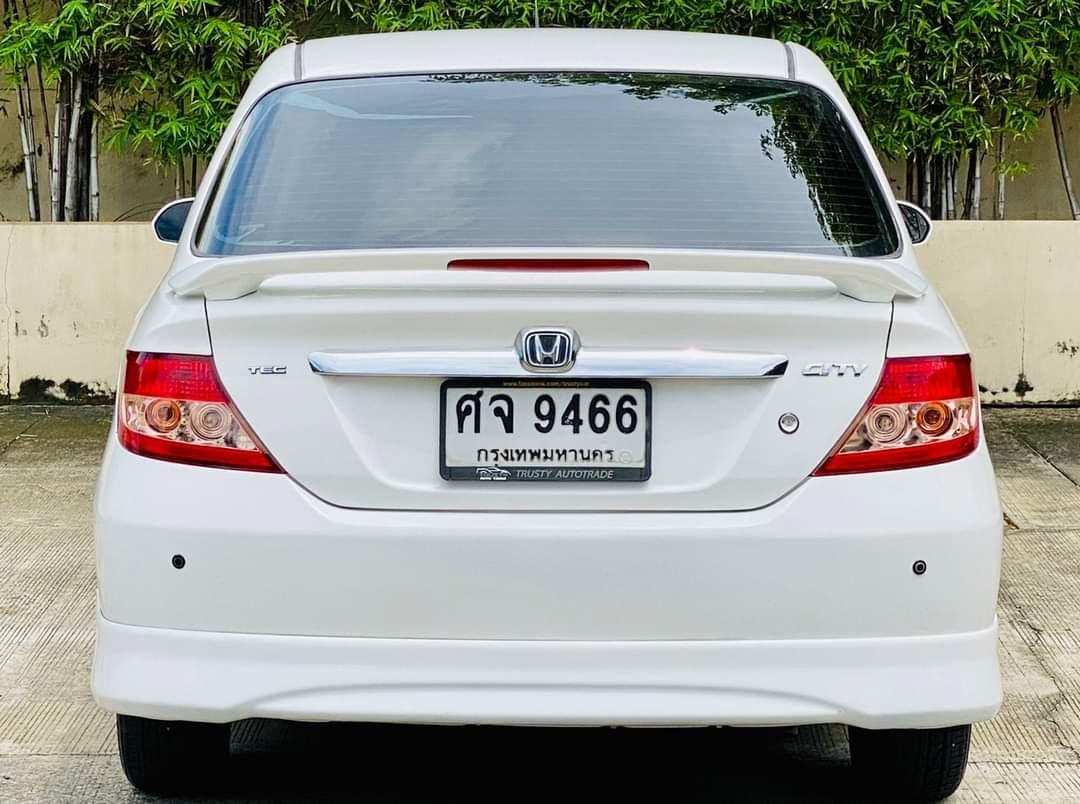license-plate: (438, 376, 652, 487)
